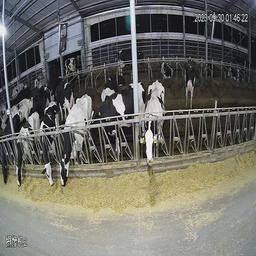cow: (92, 91, 146, 171), (58, 85, 90, 202), (11, 108, 40, 185), (0, 99, 21, 191), (38, 99, 58, 194), (178, 53, 198, 109), (101, 61, 128, 100), (112, 44, 142, 78), (33, 78, 53, 108), (52, 81, 72, 109), (158, 54, 172, 82), (223, 58, 240, 81), (62, 52, 76, 75), (205, 57, 217, 79)
